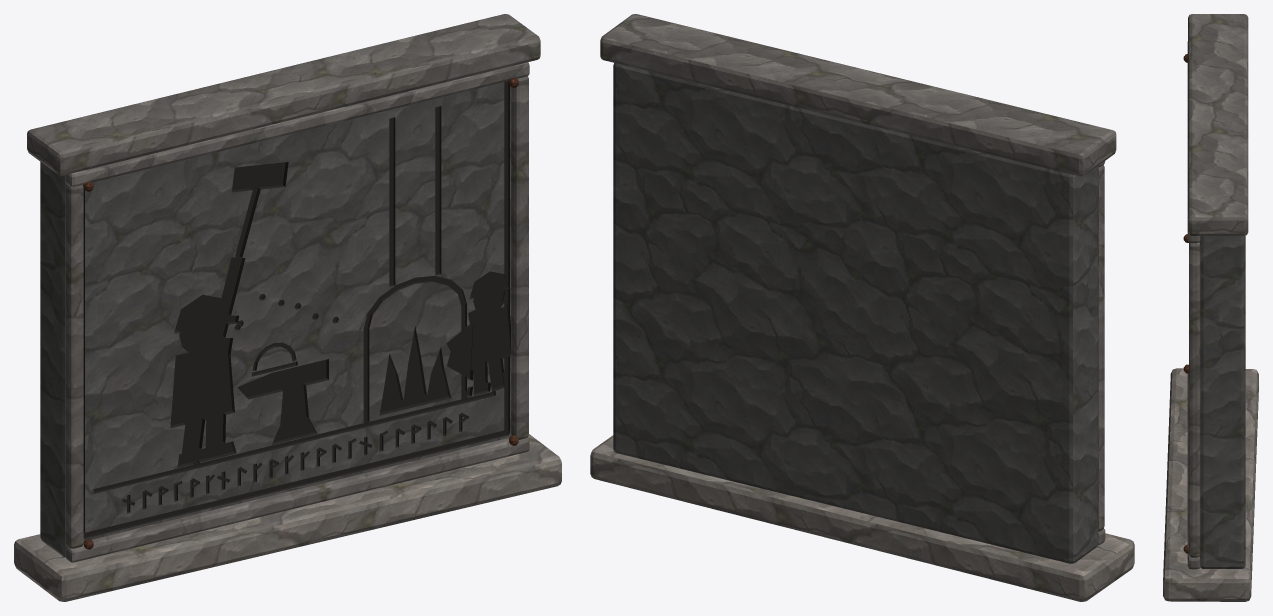
Rendered from th_relief_forge.glb.
3 views of the same model, side by side, from view 1: azimuth 30°, elevation 25°; view 2: azimuth 150°, elevation 25°; view 3: azimuth 270°, elevation 25° (orthographic). The views are drawn at different scales.
Visible parts, largest first — view 1: model; view 2: model; view 3: model.
Boxes of the visible parts, x1=… form: model: x1=14, y1=14, x2=561, y2=601; model: x1=590, y1=14, x2=1134, y2=601; model: x1=1163, y1=14, x2=1258, y2=601.
Bounding box in the file's own units: 1.74 × 1.47 × 0.3329.
Materials: 5 (4 with a texture image).
